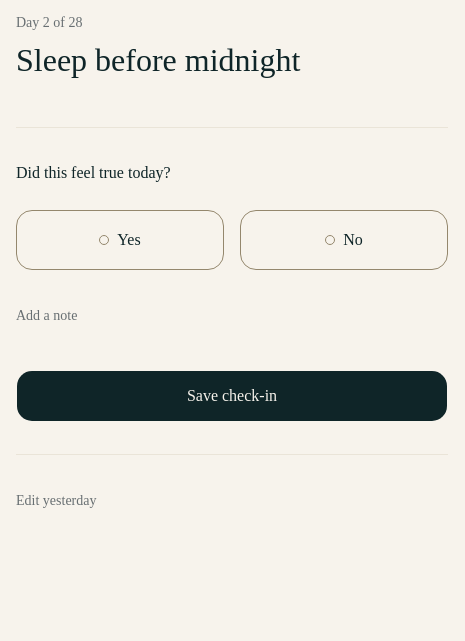
Scenario: TodayDashboard › during the season › yesterday › pre-fills yesterday's own saved answer and note, not today's blank form
Step 1. Click the button "Edit yesterday" → {"x": 56, "y": 501}, box top-left (16, 479), bottom-right (96, 523)
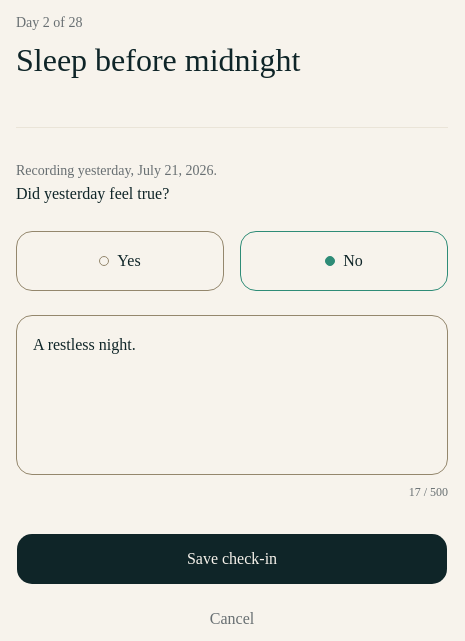
expect the text box showing "A restless night." is shown: met, box top-left (16, 315), bottom-right (448, 475)
